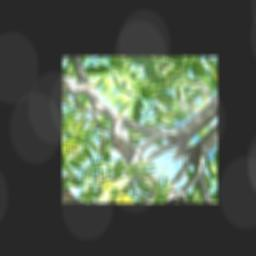Cuckoo: (97, 112, 151, 164)
